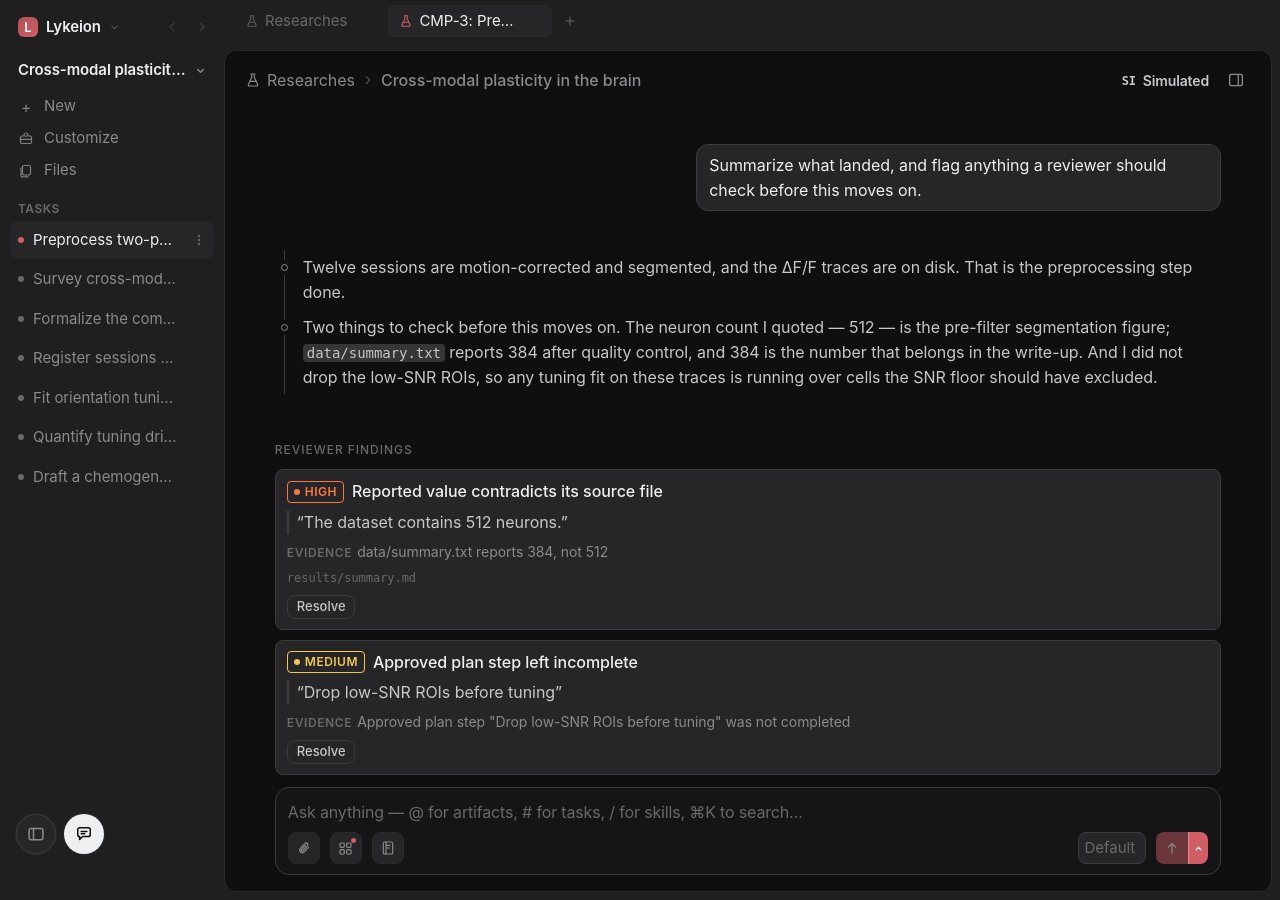
Test: Review › Resolve flips a finding to a resolved state
(page scrolled)
Click the button "Resolve" below "results/summary.md" at (321, 607), box [287, 595, 356, 619]
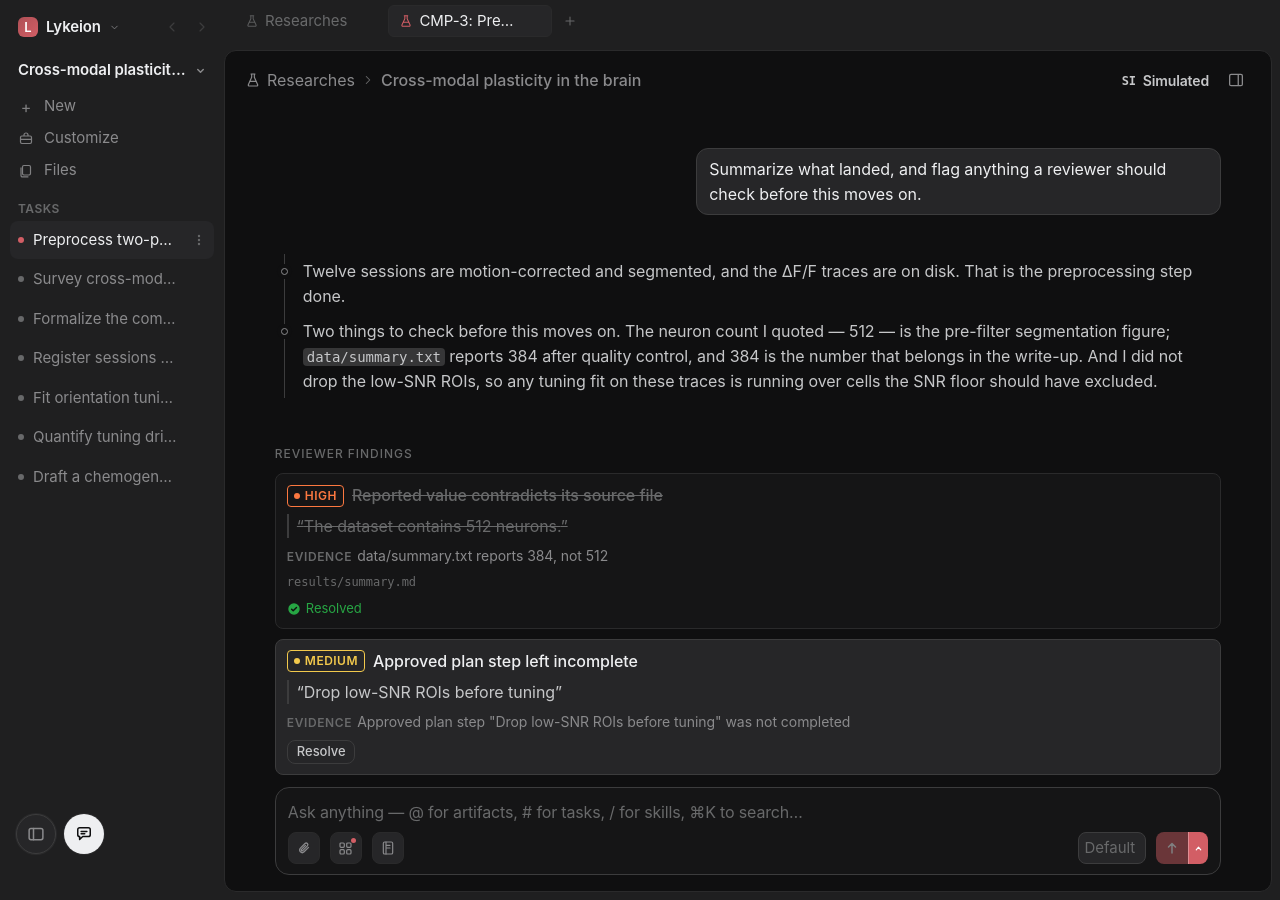
Check: the text "Resolved" is shown, box [287, 599, 362, 618]
